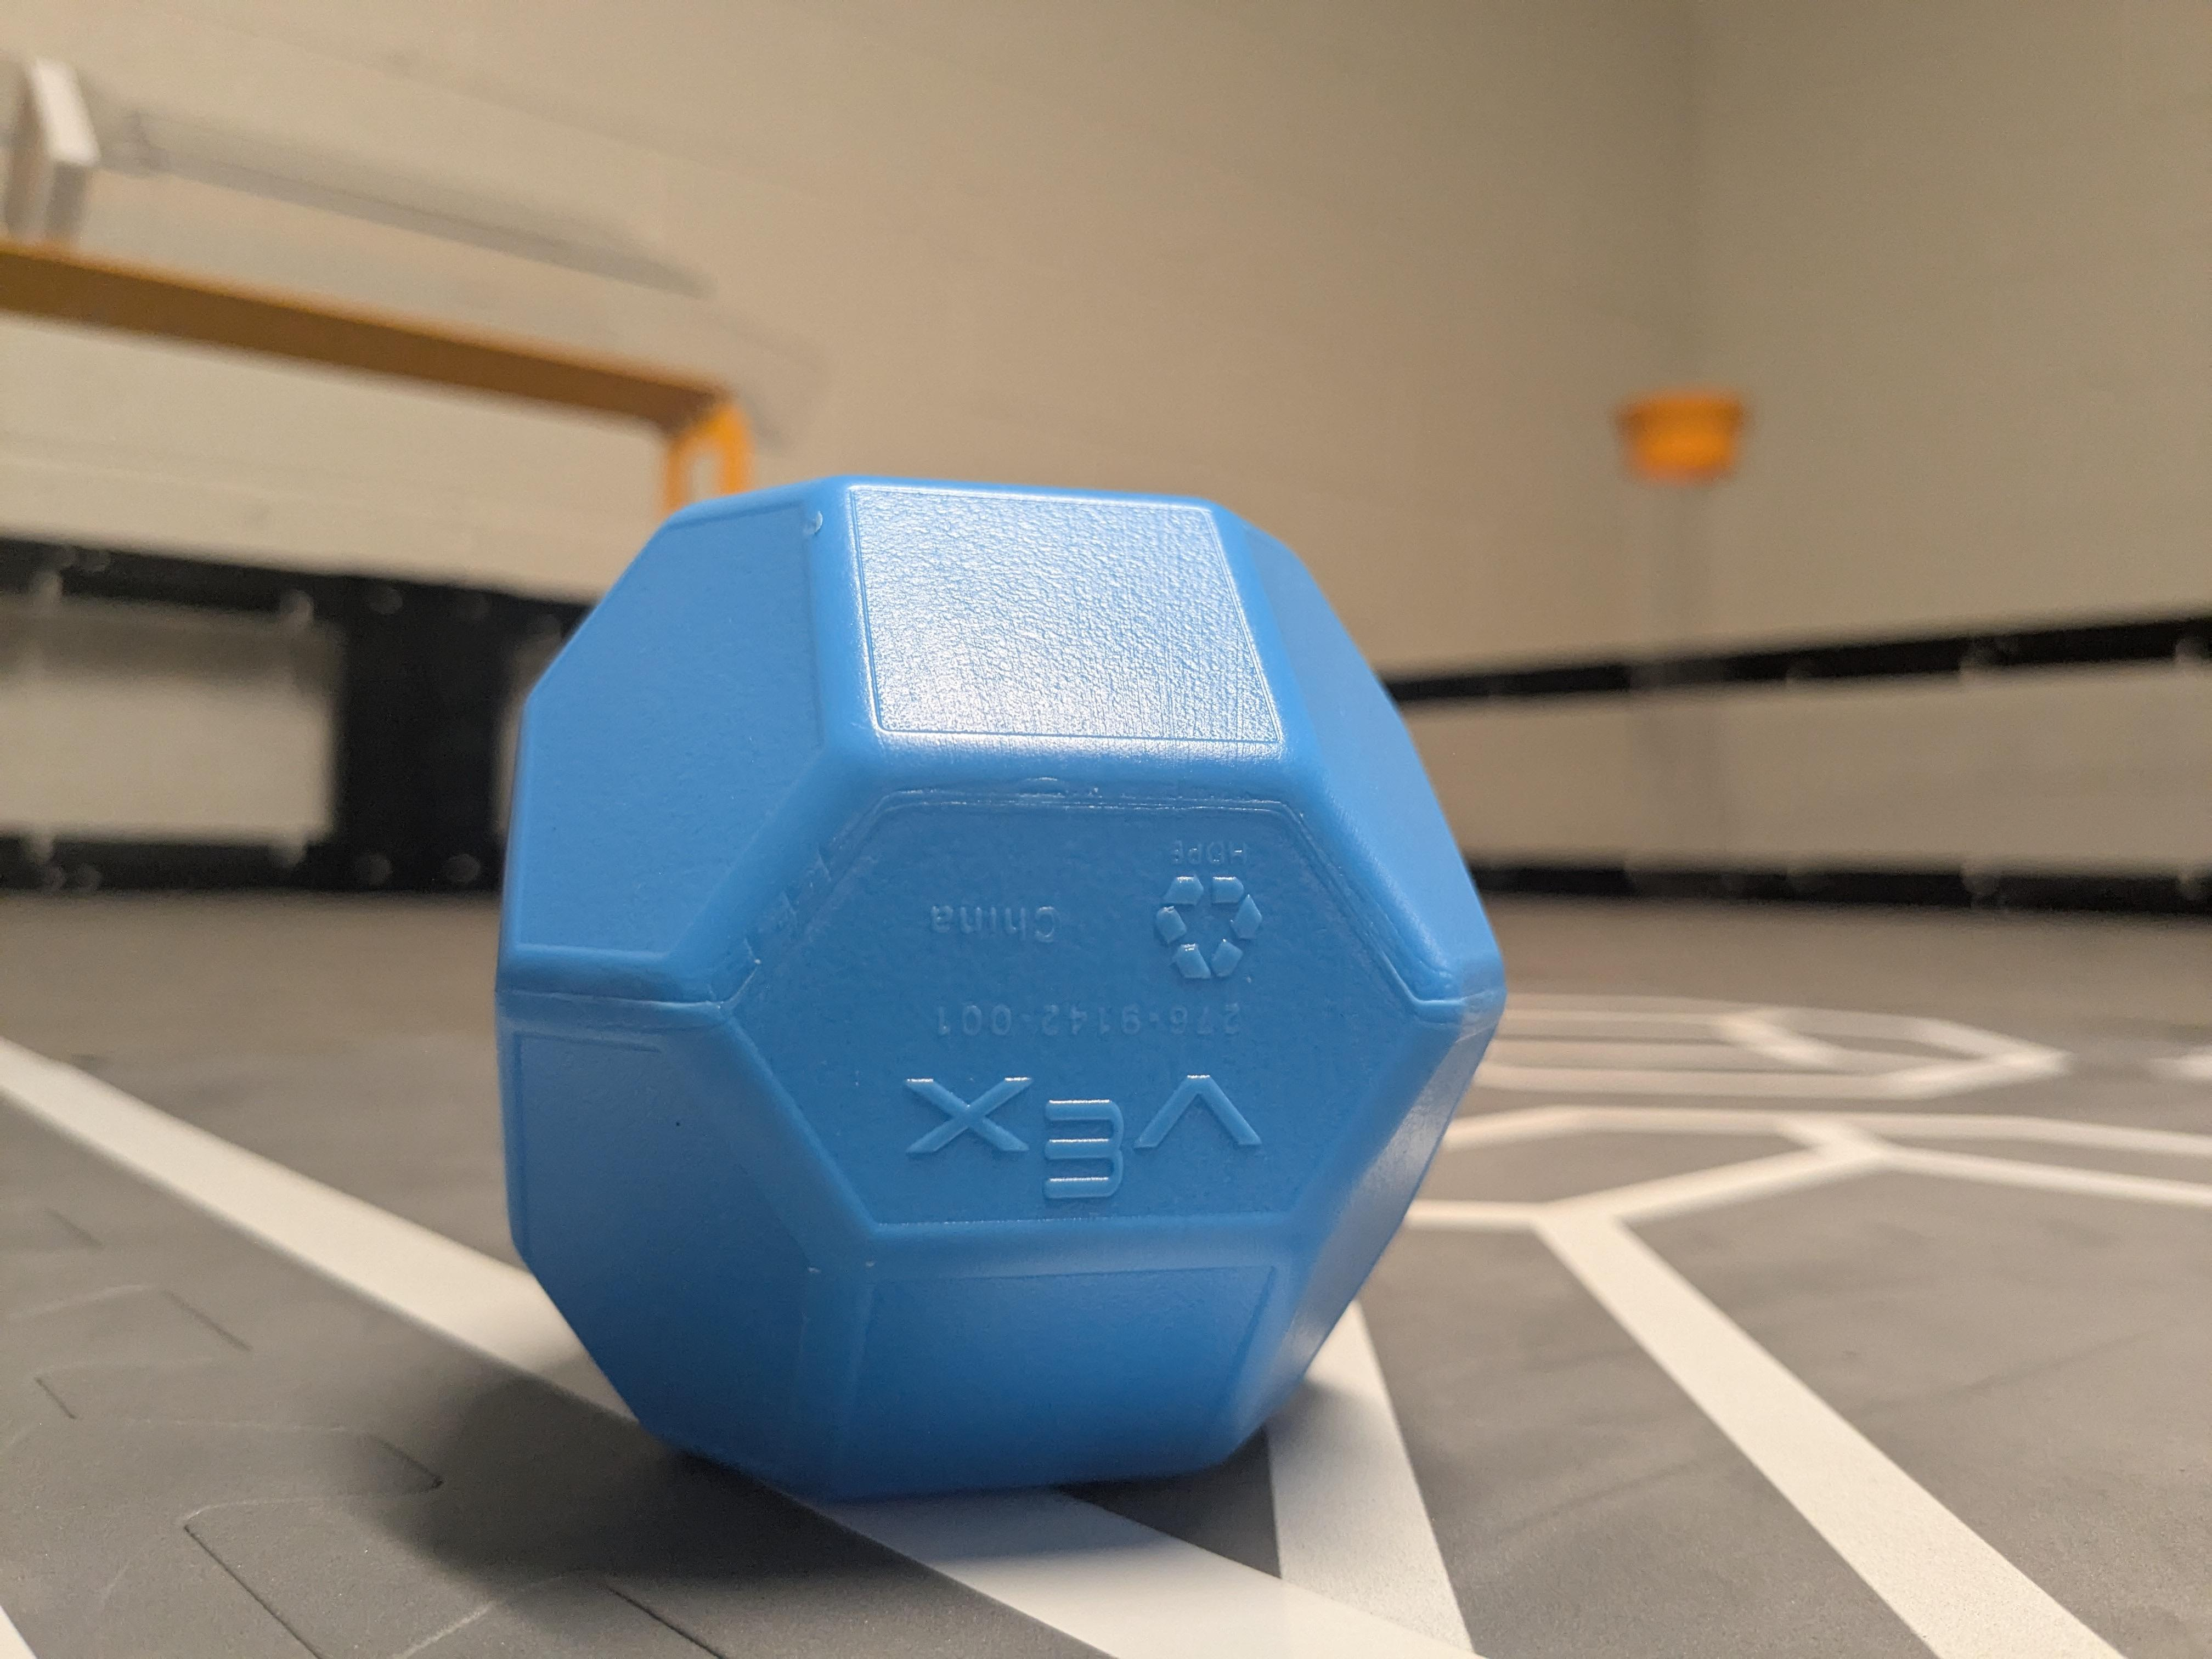Vex-Pieces-BLUE: (484, 477, 1503, 1500)
